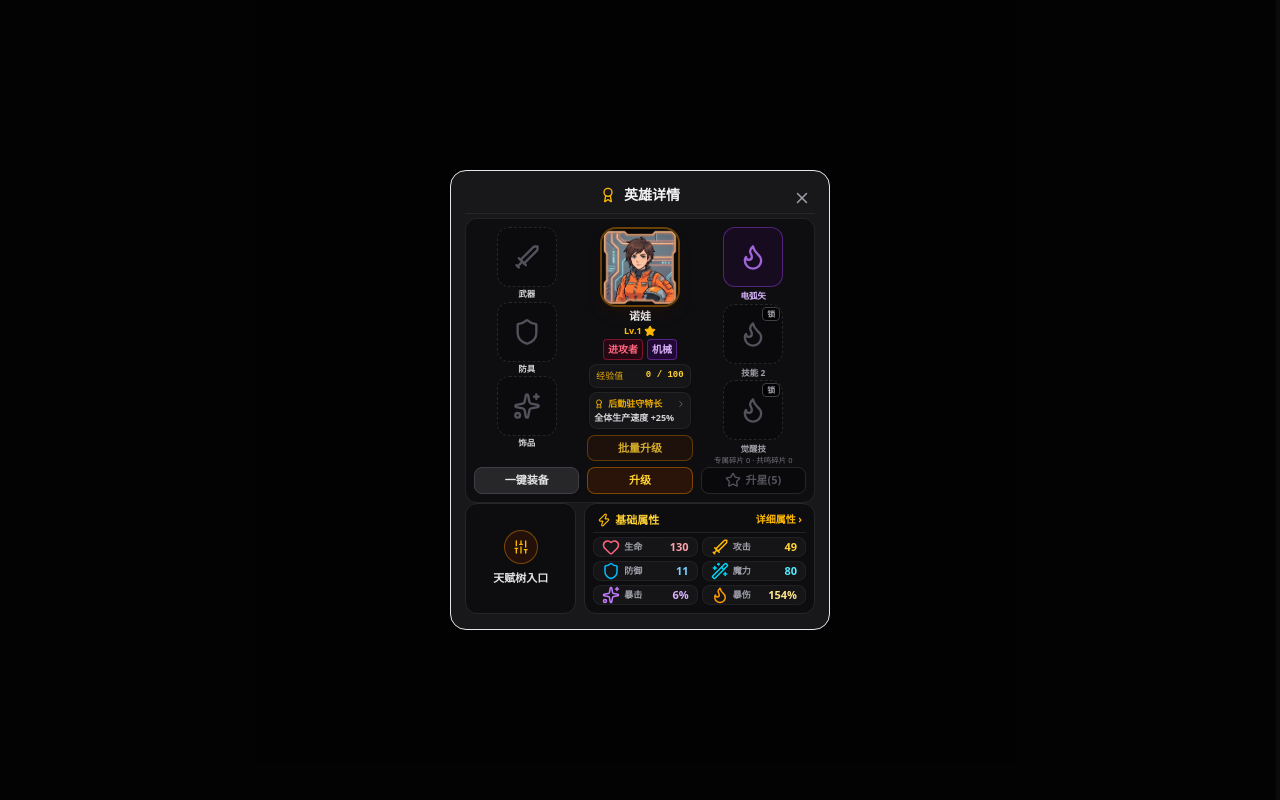
EquipmentDetailModal and EquipSelectorModal (issue 19) › opens EquipSelectorModal when clicking empty equipment slot in HeroDetailModal
Click the element titled "选择【武器】装备": x=527, y=263 [497,227,557,300]
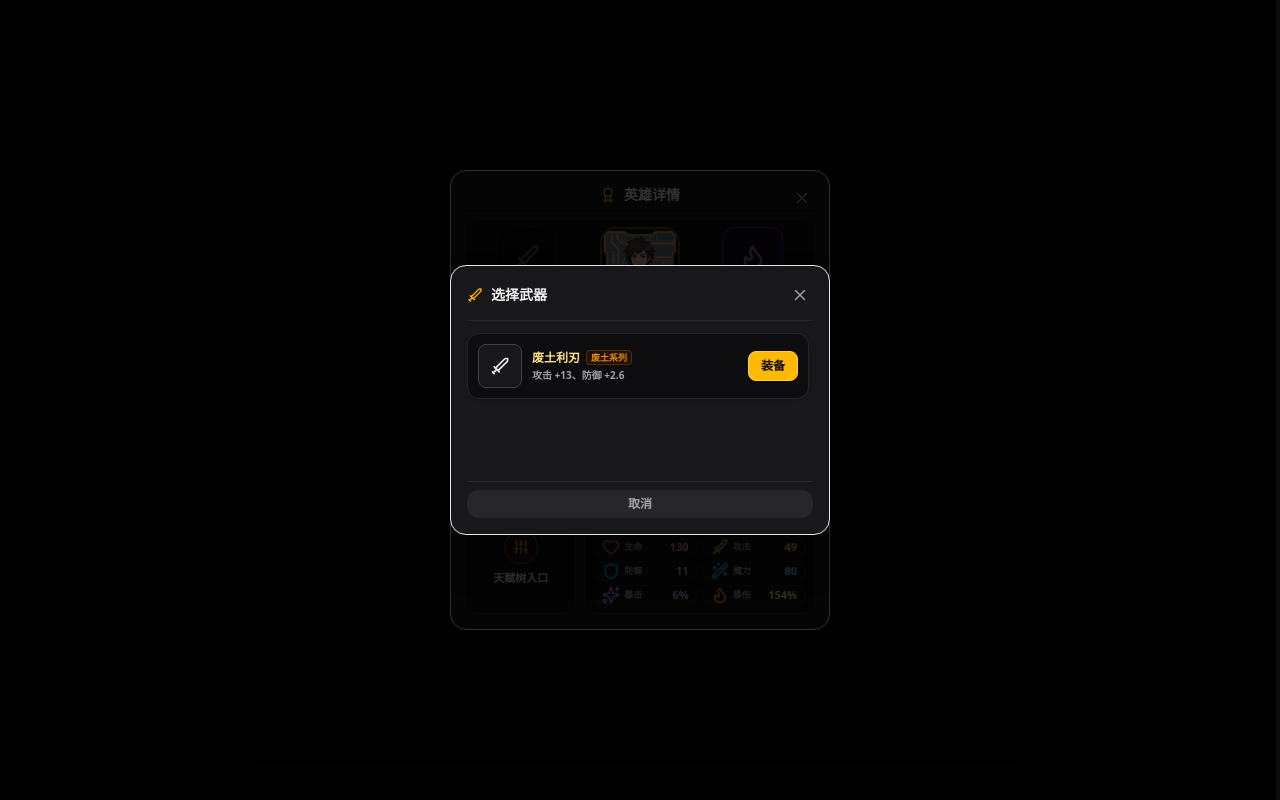
Expected: the heading "选择武器" is shown, [491,285,547,305]
Expected: the text "废土利刃" is shown, [532,350,580,366]
